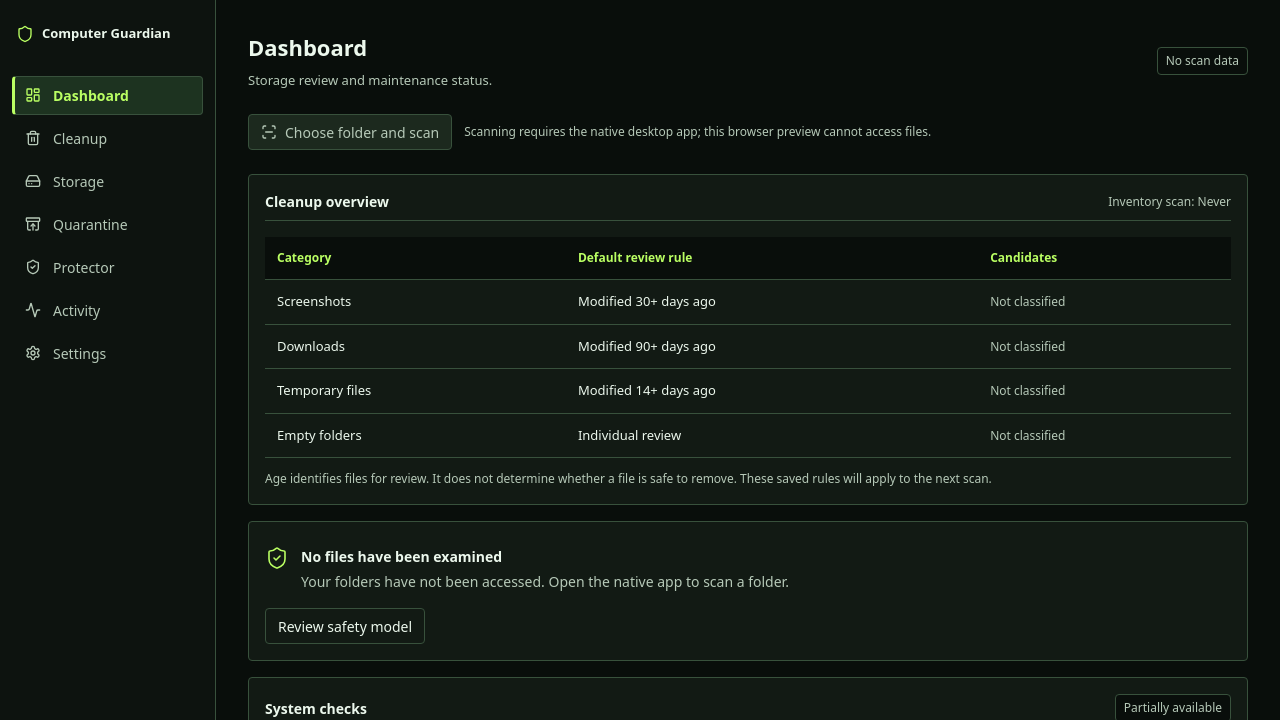
Test: application shell › moves focus to the destination heading and updates navigation state
Click the button "Cleanup". click: (108,138)
box: [12,118,203,158]
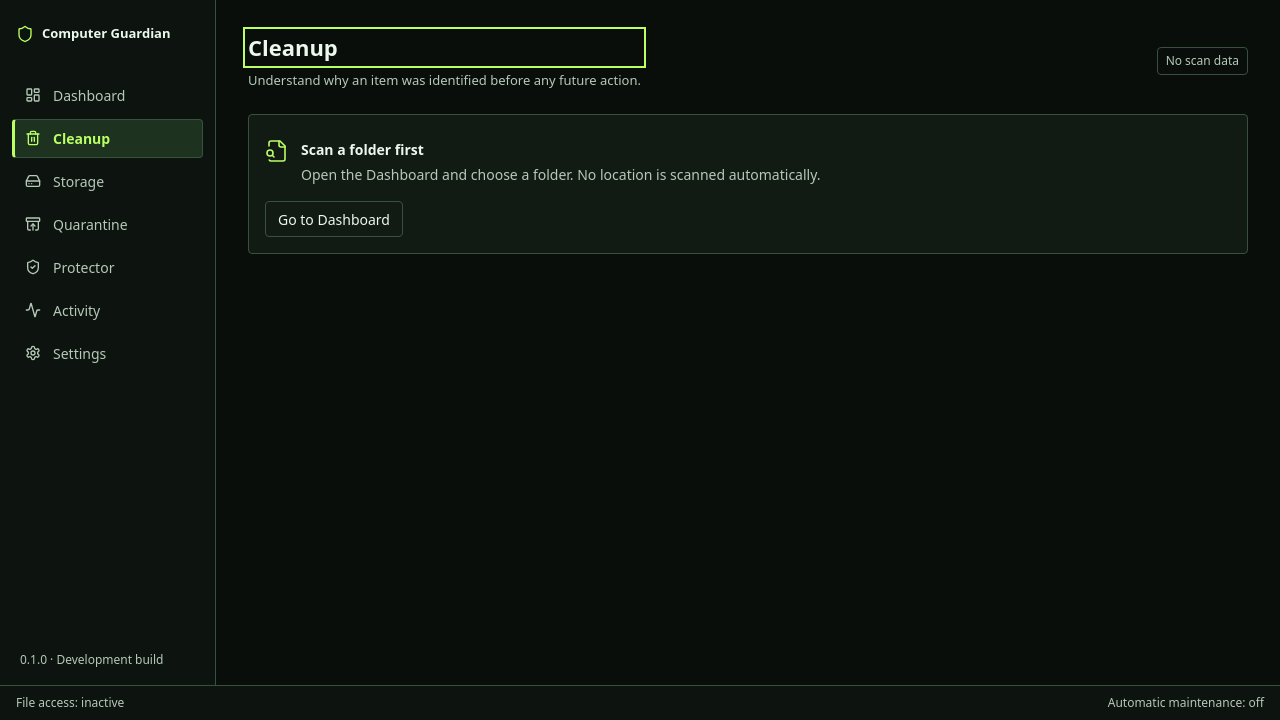
Now the heading "Scan a folder first" is shown, box [301,140,424,159]
